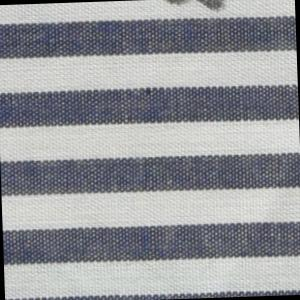Stain: (164, 1, 229, 20)
